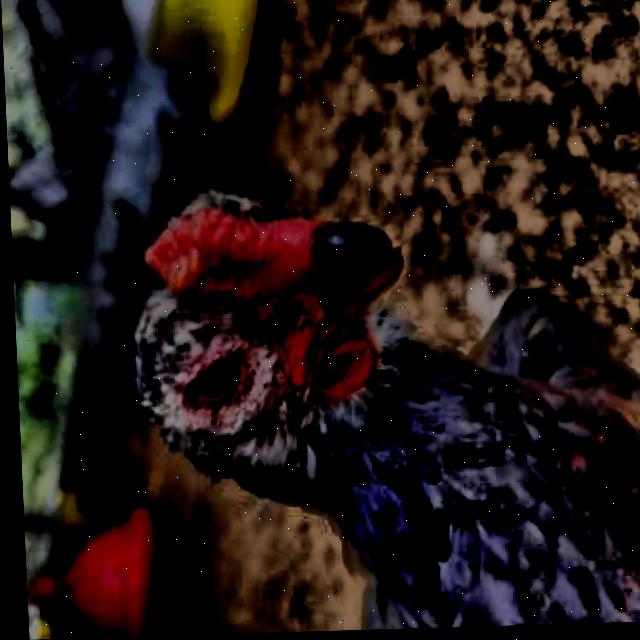Healthy: (184, 341, 260, 457)
